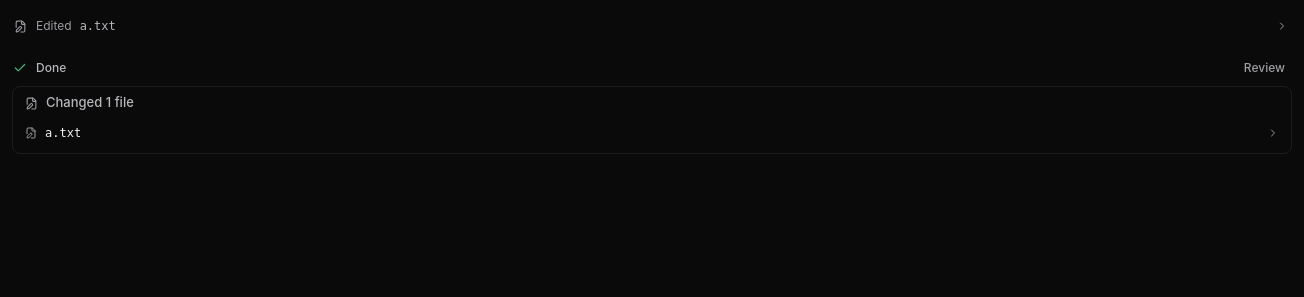
Test: timeline edit and thought previews › shows the saved before and after when a write overwrote a file
What coordinates should you click on to do the following:
click the button "Edited a.txt"
I would click on:
 (54, 26)
Its box is top-left (36, 12), bottom-right (1292, 40).
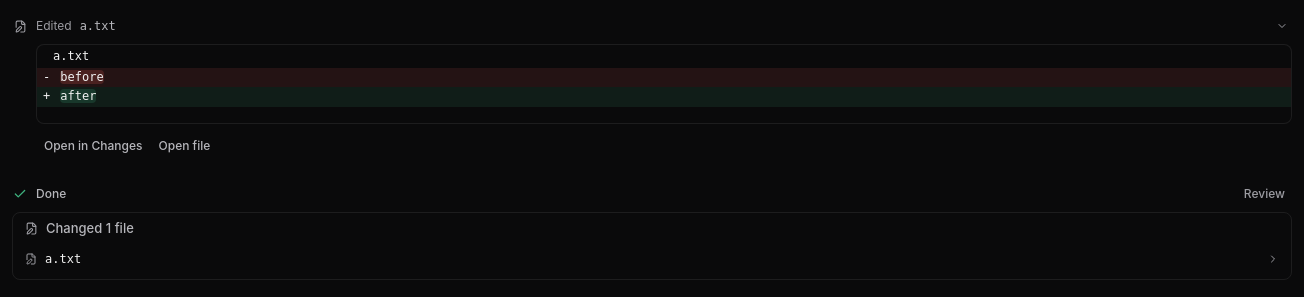
Expected: the element named "Edit preview" shows "- before", top-left (36, 44), bottom-right (1292, 124)
Expected: the element named "Edit preview" shows "+ after", top-left (36, 44), bottom-right (1292, 124)
